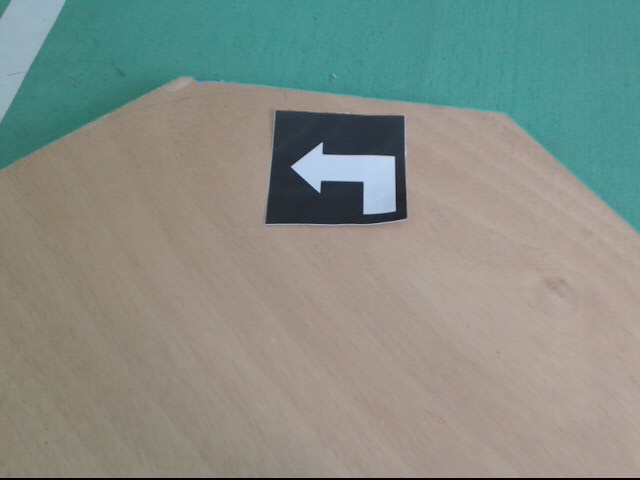left: (266, 106, 408, 226)
